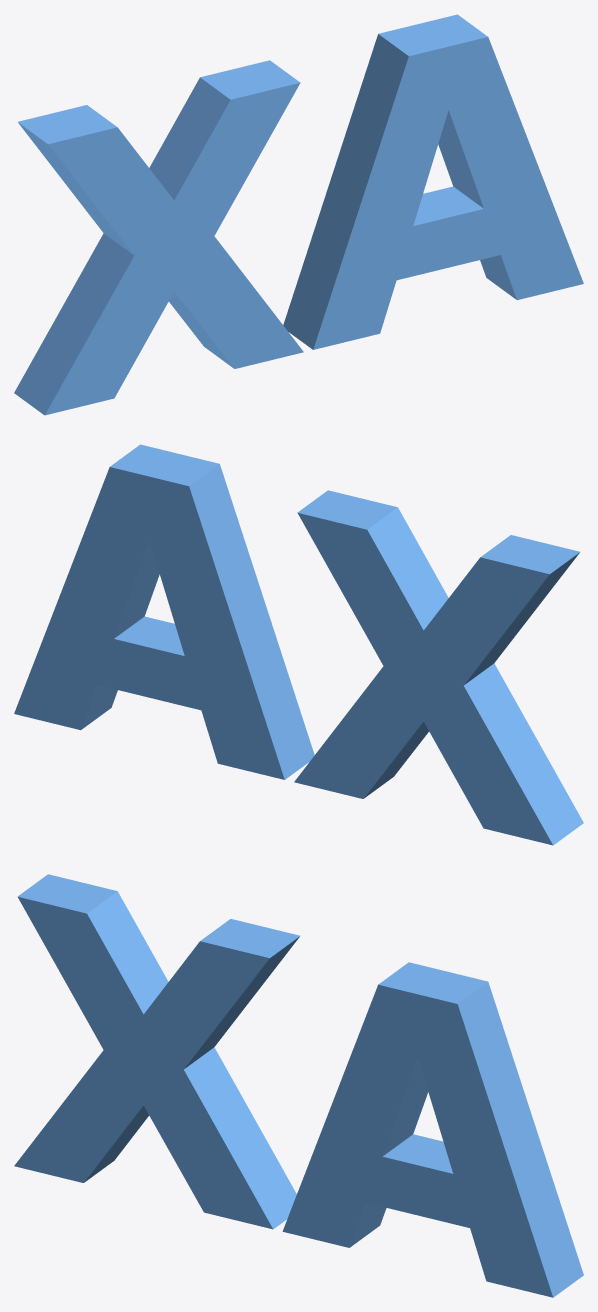
File: suku_besar_xa.glb
3 views of the same model, one above another, from view 1: azimuth 30°, elevation 25°; view 2: azimuth 150°, elevation 25°; view 3: azimuth 330°, elevation 25° (orthographic).
Parts seen in each view (by area): view 1: geometry_0; view 2: geometry_0; view 3: geometry_0.
Boxes of the visible parts, box(x1,y1,x2,y2) form: geometry_0: box(14, 14, 583, 415); geometry_0: box(14, 444, 583, 845); geometry_0: box(14, 874, 583, 1297).
Size of the model in its own units: 15.22 by 7.29 by 1.5.
